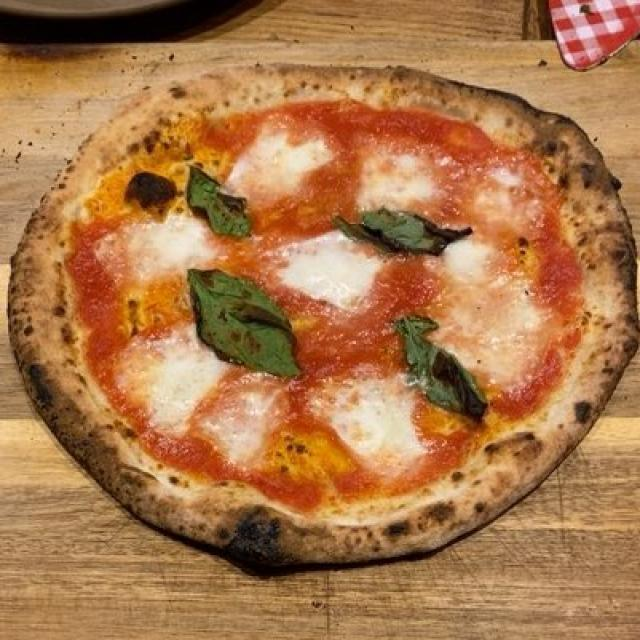pizza: (33, 78, 622, 556)
